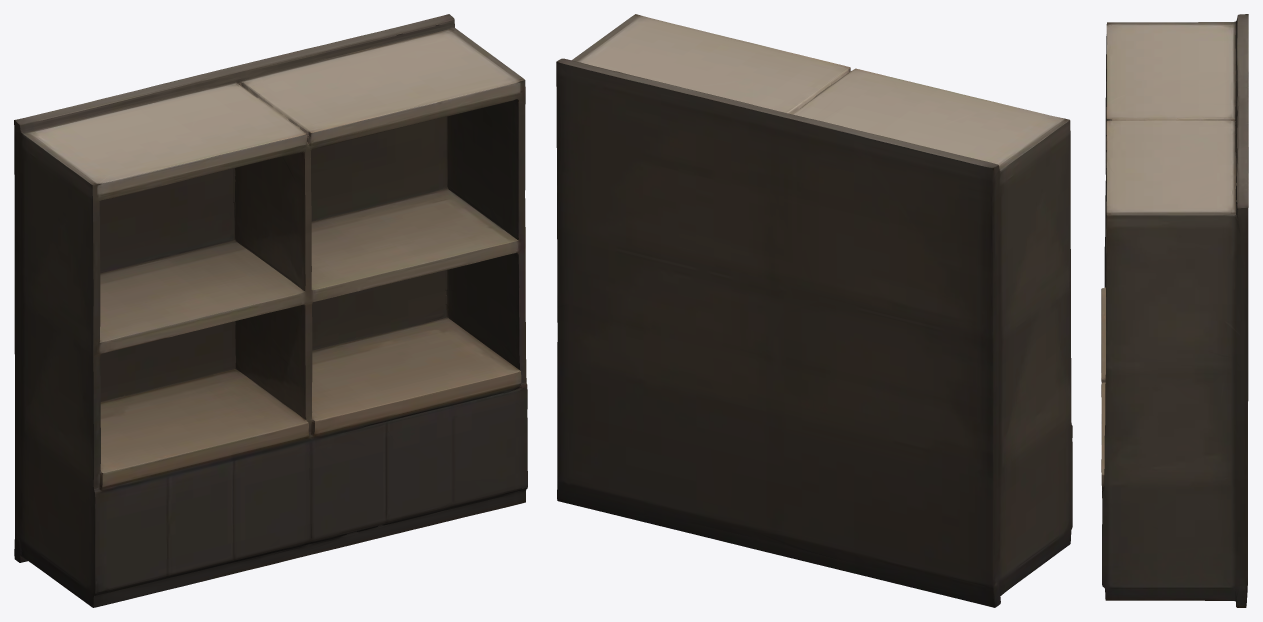
File: mouse_black.glb
The picture shows the model from 3 angles, left to right: view 1: azimuth 30°, elevation 25°; view 2: azimuth 150°, elevation 25°; view 3: azimuth 270°, elevation 25°; orthographic projection. The views are drawn at different scales.
Parts seen in each view (by area): view 1: geometry_0; view 2: geometry_0; view 3: geometry_0.
Boxes of the visible parts, bbox=[...] form: geometry_0: bbox=[14, 14, 527, 607]; geometry_0: bbox=[556, 14, 1072, 607]; geometry_0: bbox=[1101, 14, 1248, 607].
Size of the model in its own units: 0.9963 by 0.9567 by 0.3193.
Materials: 1 (1 with a texture image).
